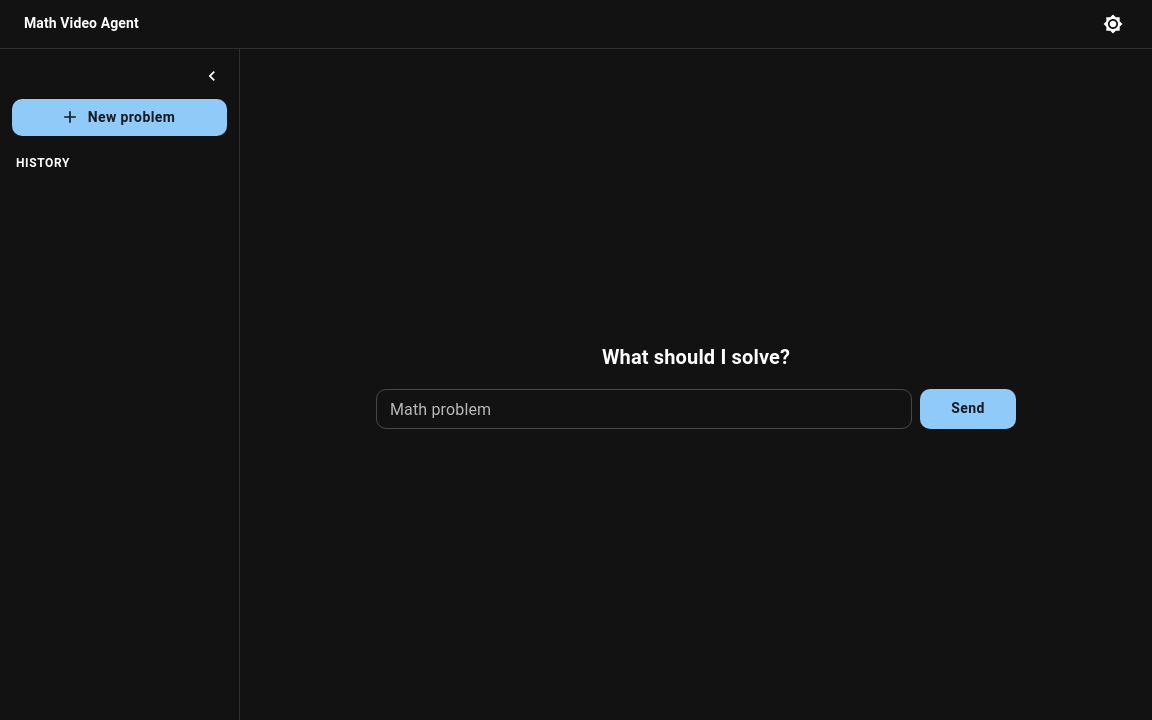
Test: AppShell › shows a comprehensible error when checking a reopened job's status fails (e.g. backend unreachable)
The image size is (1152, 720).
In the field labelled "Math problem": (644, 408) [376,388,912,428], type "Solve x^2 - 4 = 0"
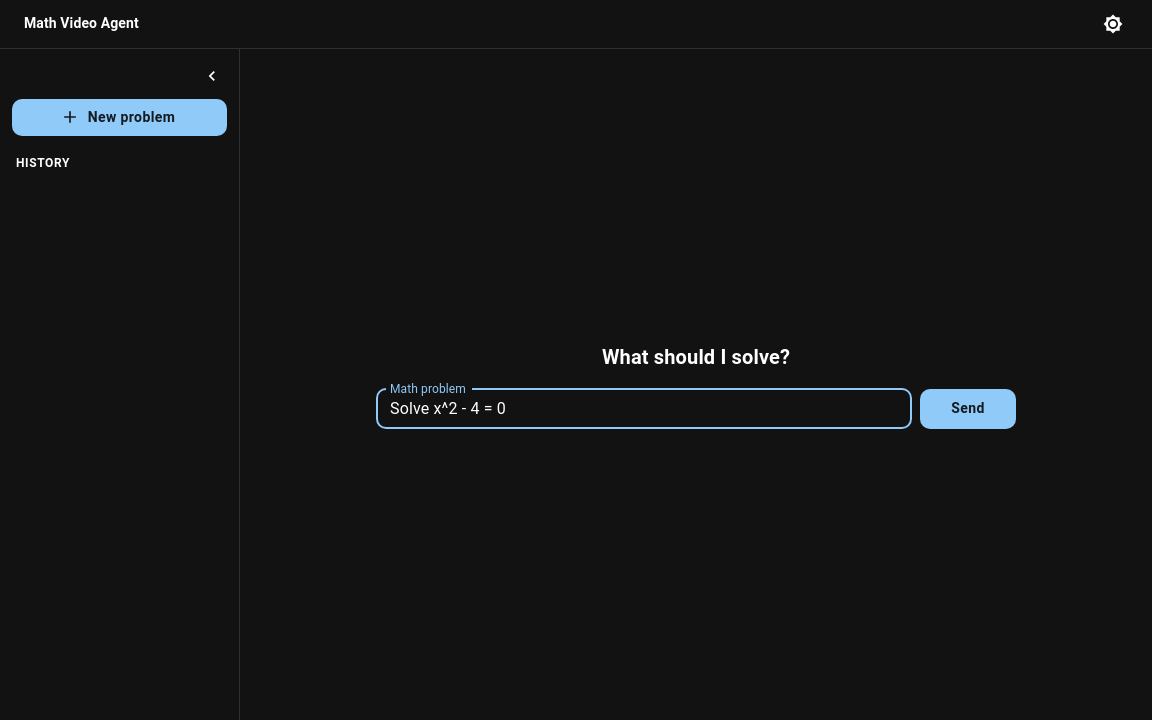
Click the button "Send": (968, 408) [920,388,1016,428]
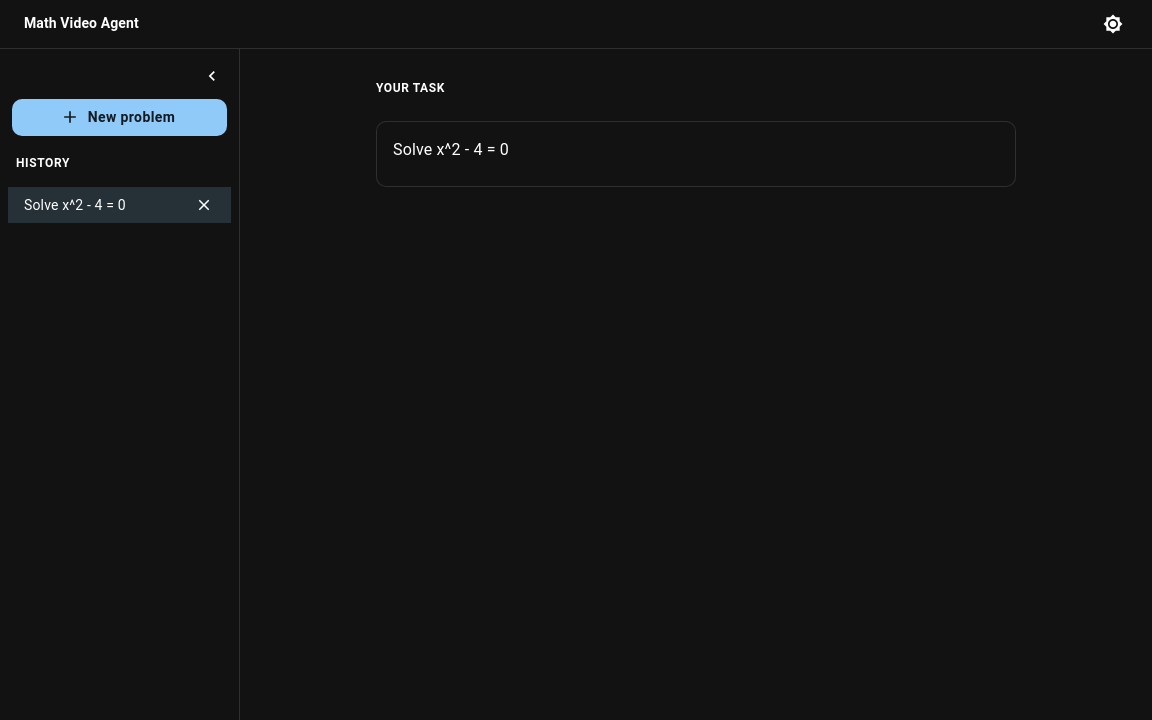
Click the button "New problem": (120, 117) [12,99,227,136]
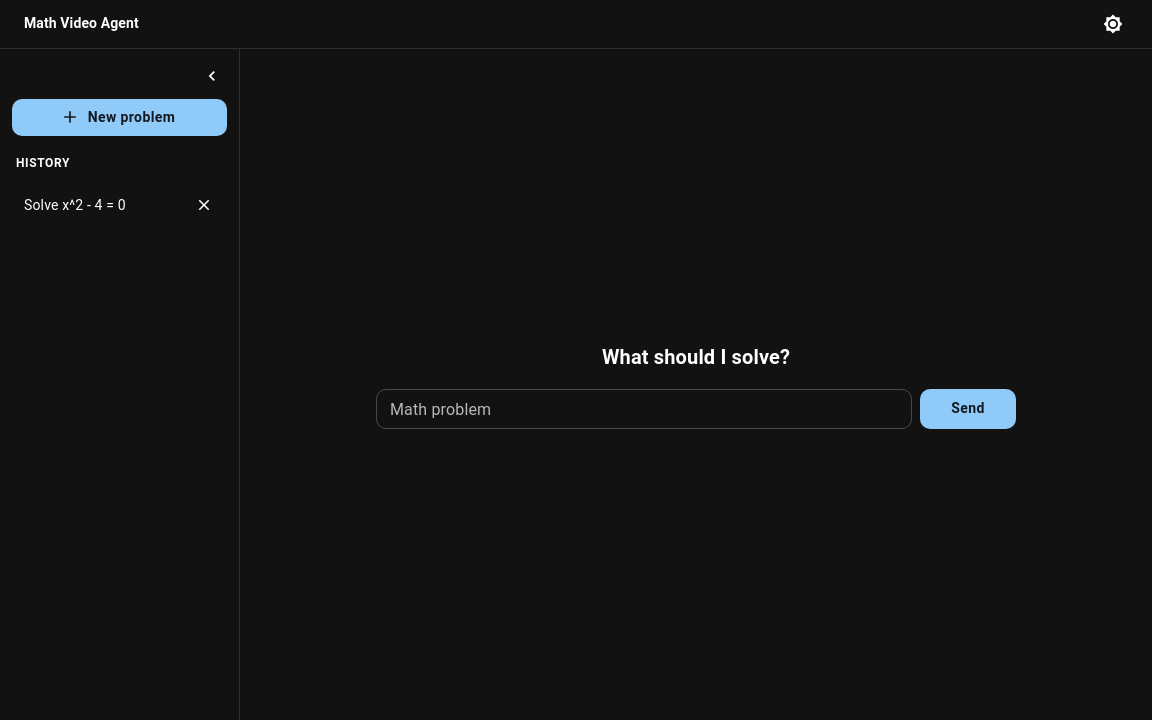
Click the button with test id "history-entry-abc": (75, 205) [24,197,126,213]
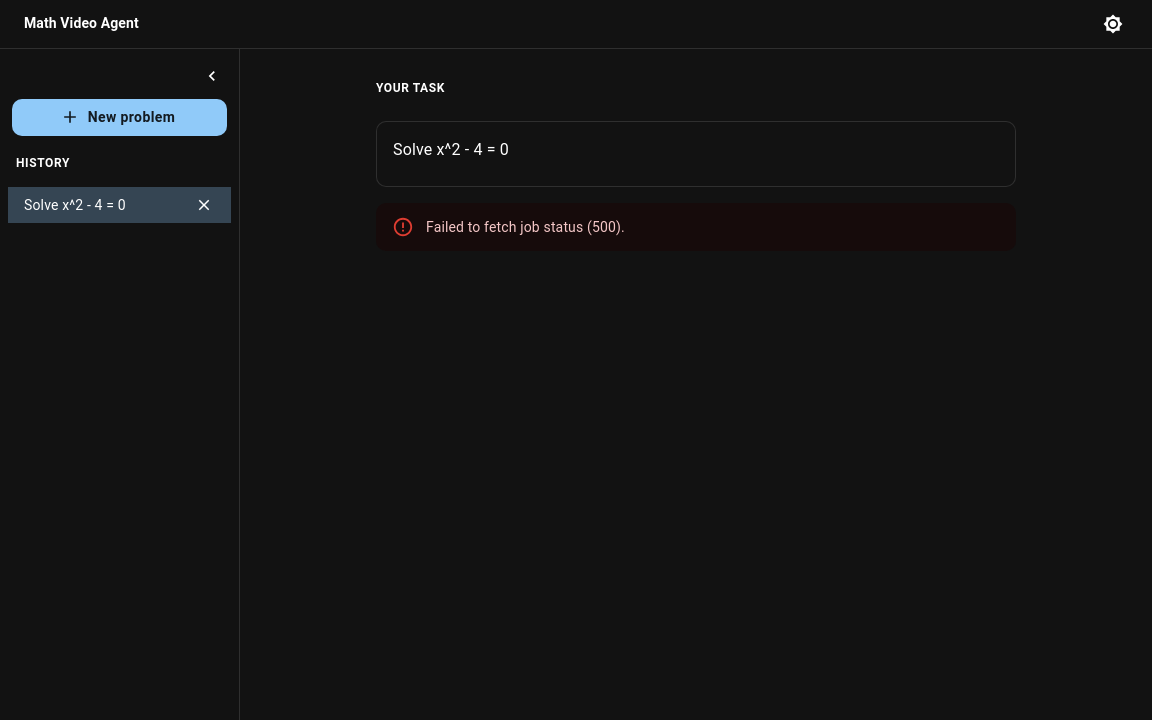
Expected: the message shows "Failed to fetch job status", [426,219,625,235]
Expected: the text "Solve x^2 - 4 = 0" below "Your task" is shown, [393,140,509,159]
